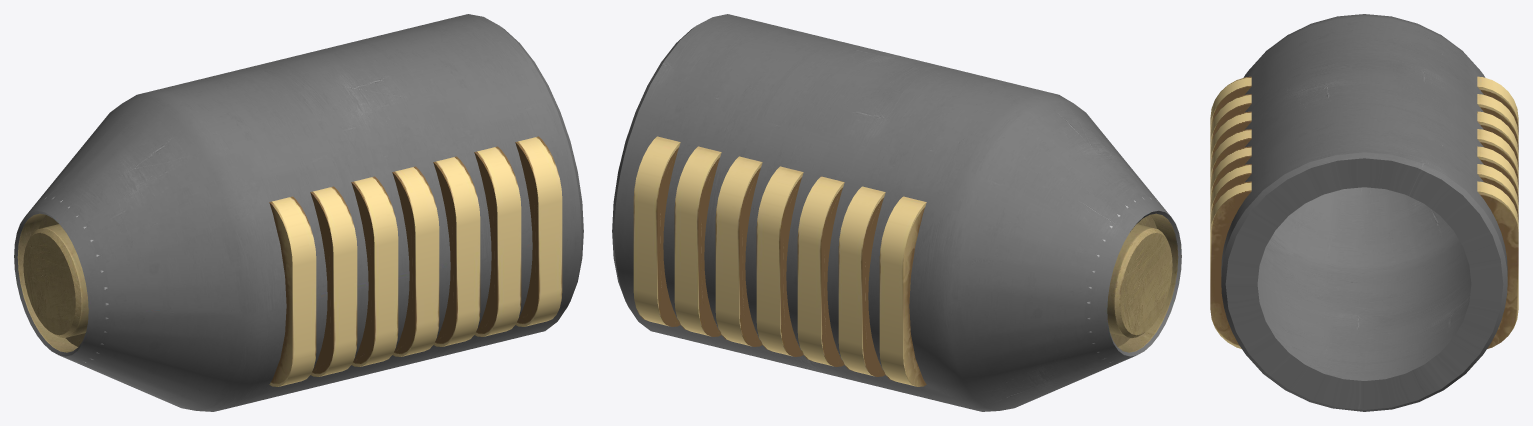
Rendered from pommel_16_u_b.glb.
3 renders of one model, left to right at view 1: azimuth 30°, elevation 25°; view 2: azimuth 150°, elevation 25°; view 3: azimuth 270°, elevation 25°, orthographic. The views are drawn at different scales.
Visible parts, largest first — view 1: pommel_16_u_b_lod0; view 2: pommel_16_u_b_lod0; view 3: pommel_16_u_b_lod0.
Boxes of the visible parts, box(x1,y1,x2,y2) form: pommel_16_u_b_lod0: box(14, 14, 583, 411); pommel_16_u_b_lod0: box(612, 14, 1181, 411); pommel_16_u_b_lod0: box(1210, 14, 1518, 411).
Size of what is drawn, in the model's own units: 0.0484 by 0.0302 by 0.0325.
Materials: 1 (1 with a texture image).
